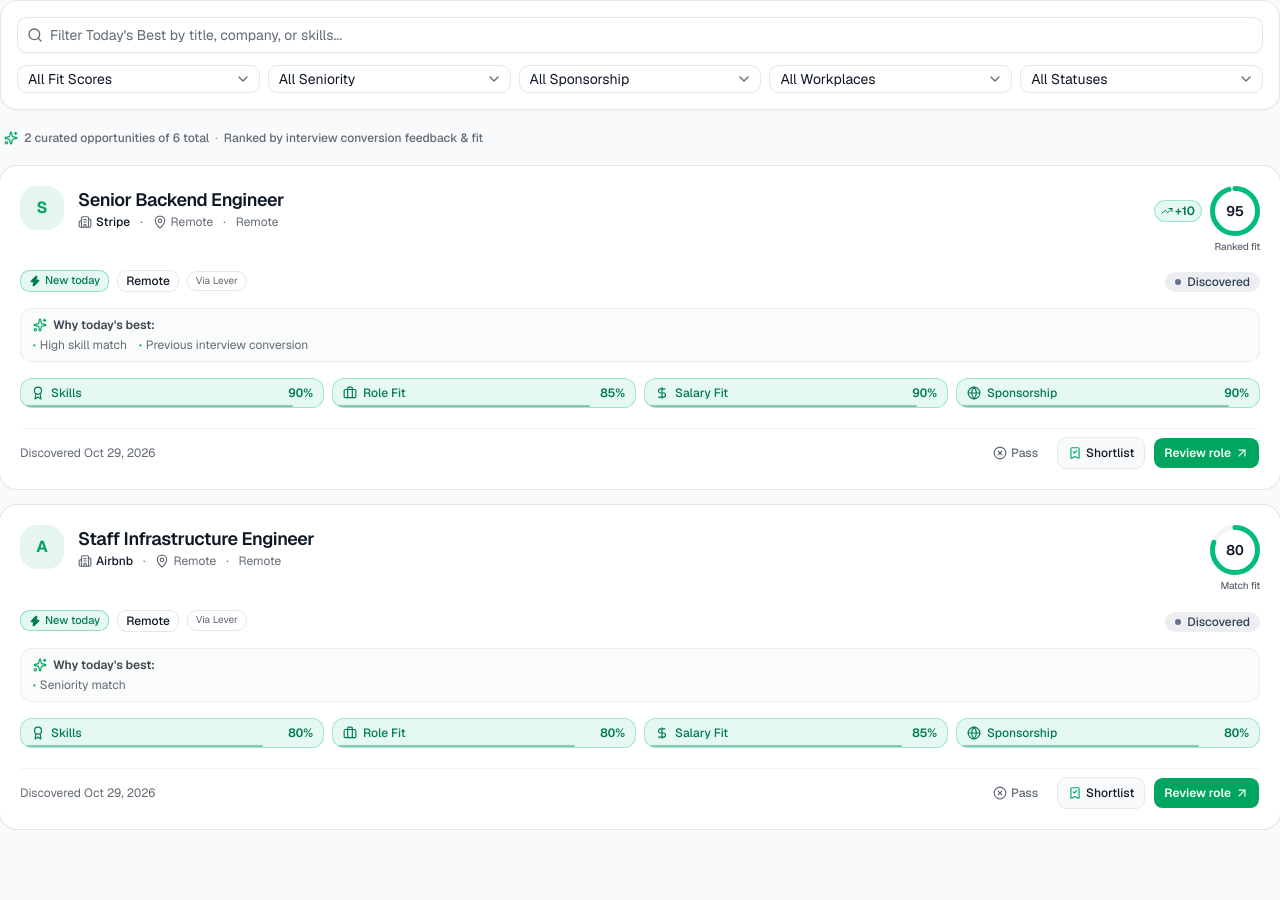
Test: counts a passed job once when a reload already dropped it
Click the button "Pass" below "Ranked fit": (1016, 453) [982,437,1049,469]
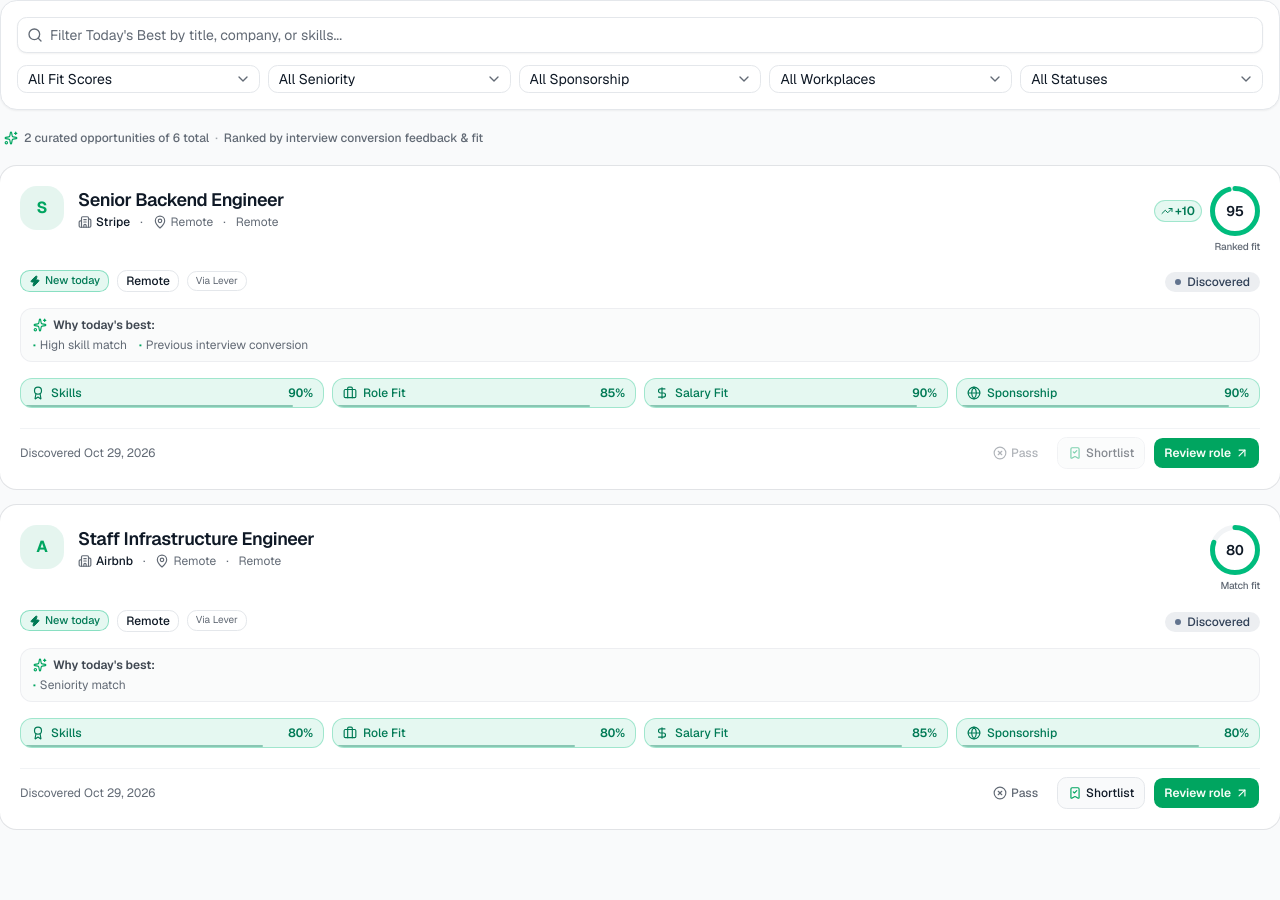
Click the dropdown named "filter by minimum score": (138, 79) [17,65,260,93]
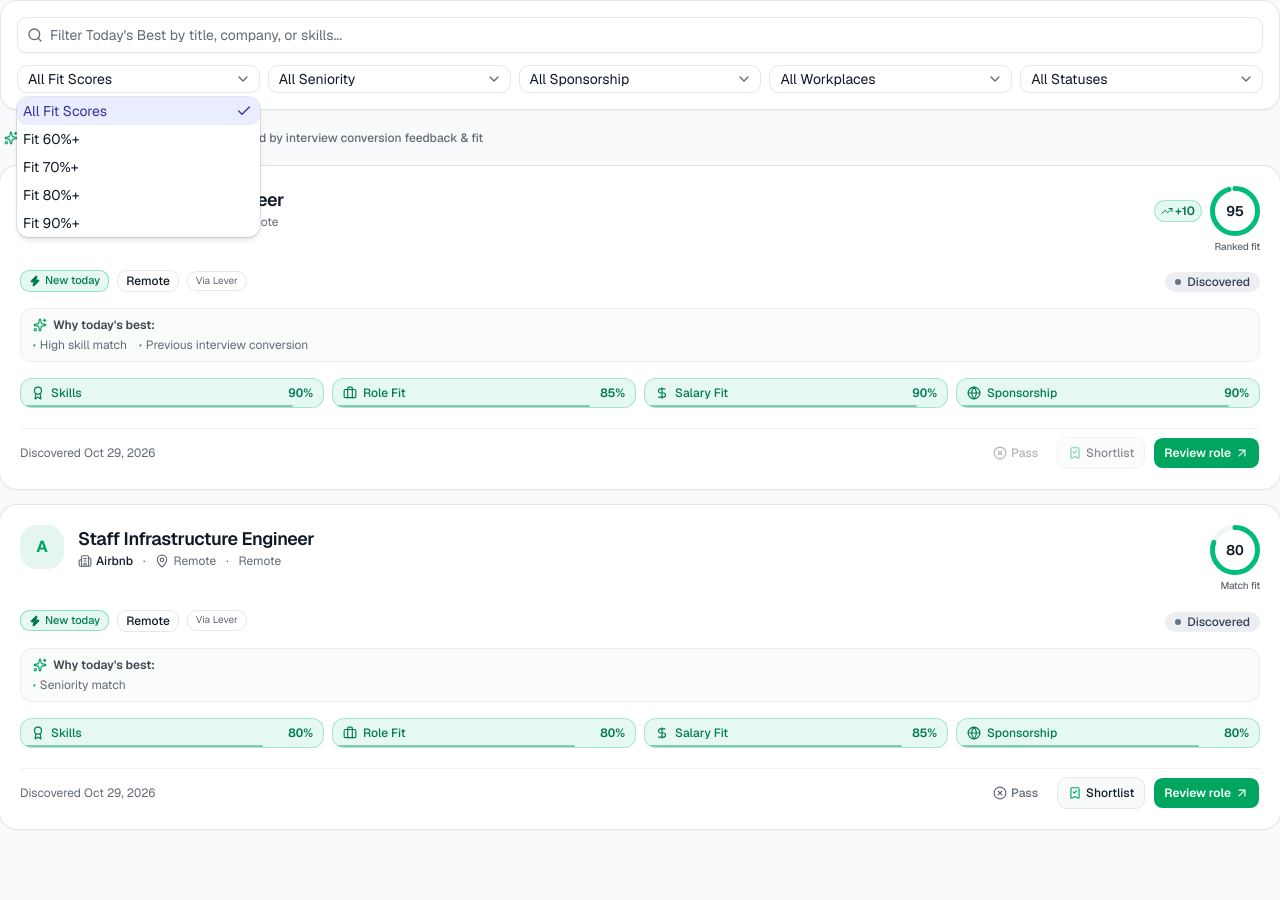
Click the option "Fit 80%+": (51, 195) [23,186,80,204]
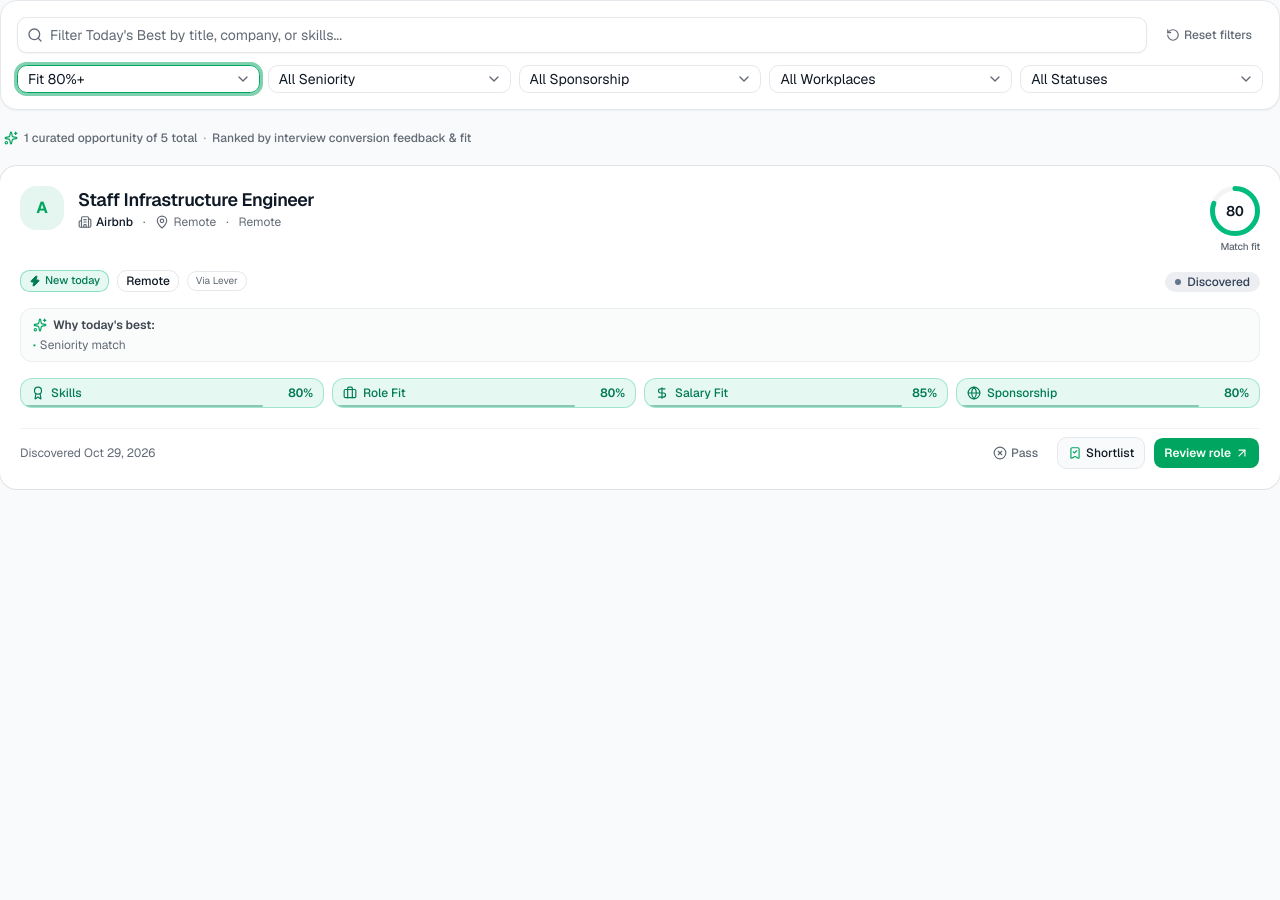
expect the text "1 curated opportunity of 5 total" is shown: met, box [24,130,198,146]
